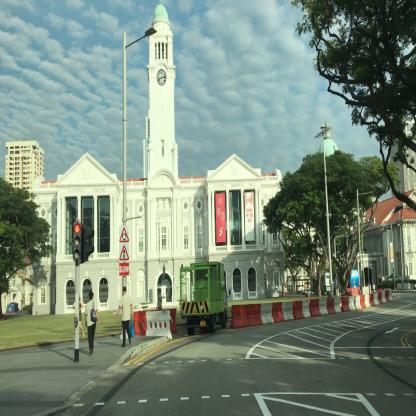red_traffic_light: (74, 223, 80, 260)
